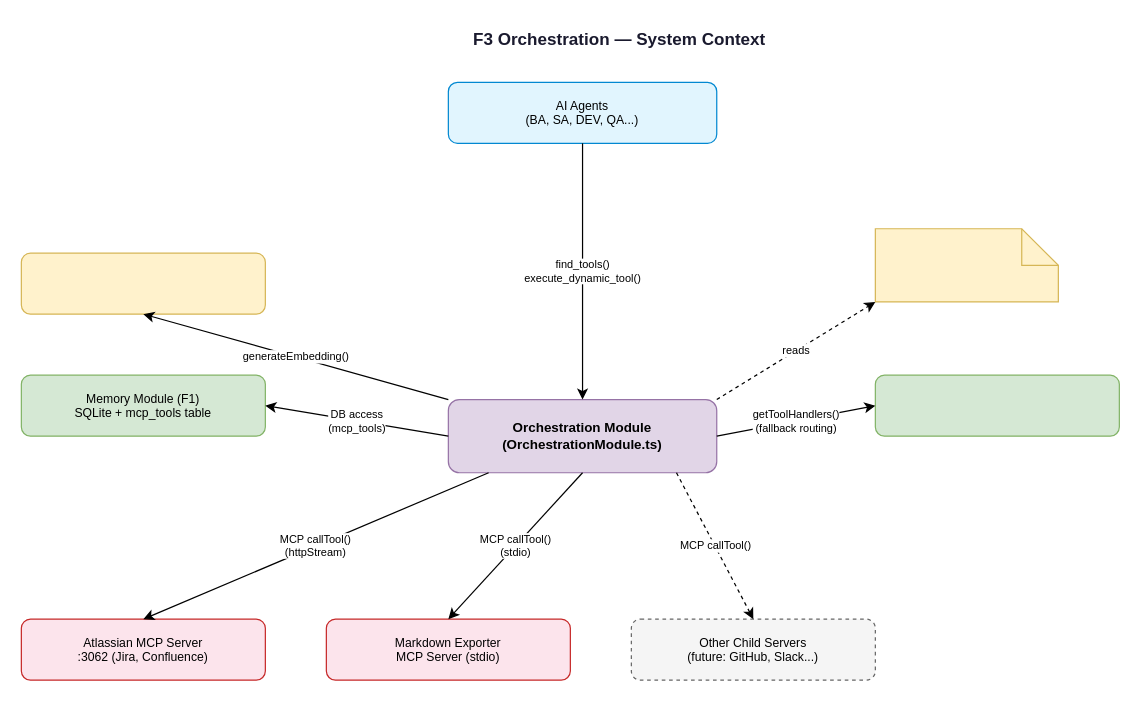
This 1141x702 diagram has some shape labels left out. Each missing label, with the centre of its shape:
"Module Registry (Internal tool handlers)" goes at point 996,405.
"ONNX EmbeddingService all-MiniLM-L6-v2" goes at point 142,283.
"orchestration.json (.code-intel/)" goes at point 966,265.
